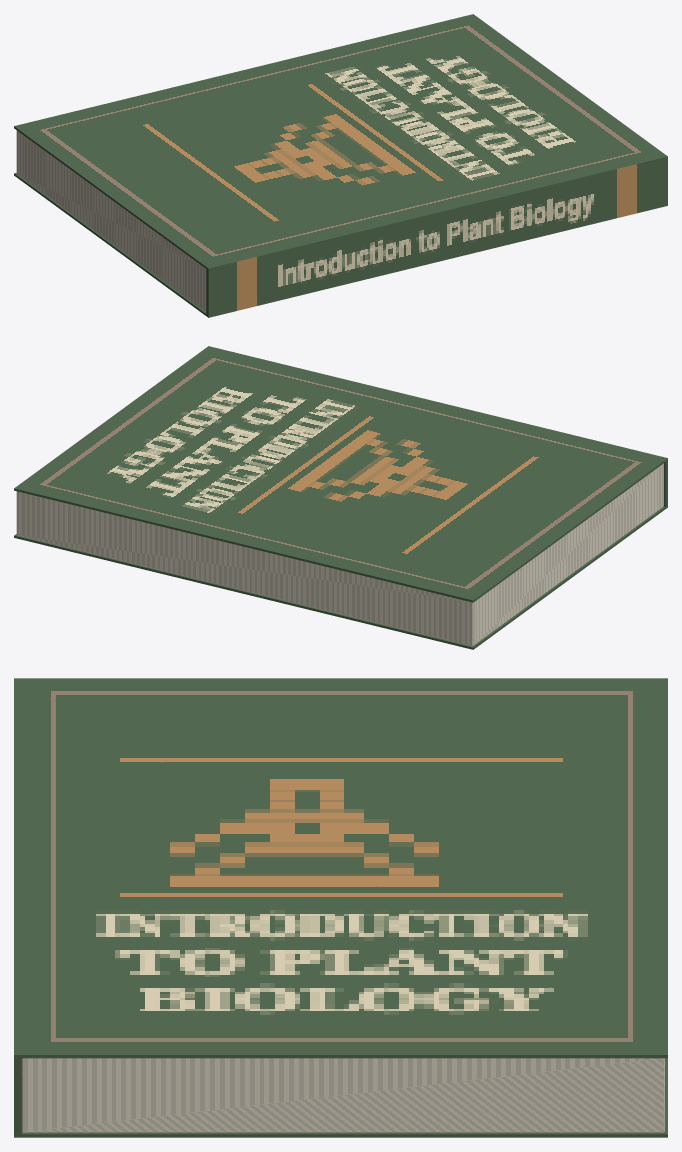
Rendered from textbook_botany.glb.
The picture shows the model from 3 angles, top to bottom: view 1: azimuth 30°, elevation 25°; view 2: azimuth 150°, elevation 25°; view 3: azimuth 270°, elevation 25°; orthographic projection. The views are drawn at different scales.
Visible parts, largest first — view 1: block_front, block_spine, block_pages, block_back; view 2: block_front, block_pages, block_back, block_spine; view 3: block_front, block_pages, block_back, block_spine.
Part boxes in pixels (<box>): block_front: <box>14,14,665,269</box>; block_spine: <box>206,155,667,317</box>; block_pages: <box>16,130,206,311</box>; block_back: <box>14,173,207,316</box>; block_front: <box>14,346,667,602</box>; block_pages: <box>16,463,663,646</box>; block_back: <box>14,506,667,649</box>; block_spine: <box>207,346,667,507</box>; block_front: <box>16,678,667,1058</box>; block_pages: <box>21,1058,664,1132</box>; block_back: <box>16,1058,667,1137</box>; block_spine: <box>14,678,21,1137</box>.
Bounding box in the file's own units: 0.3509 × 0.036 × 0.2574.
1 material, 1 textured.
